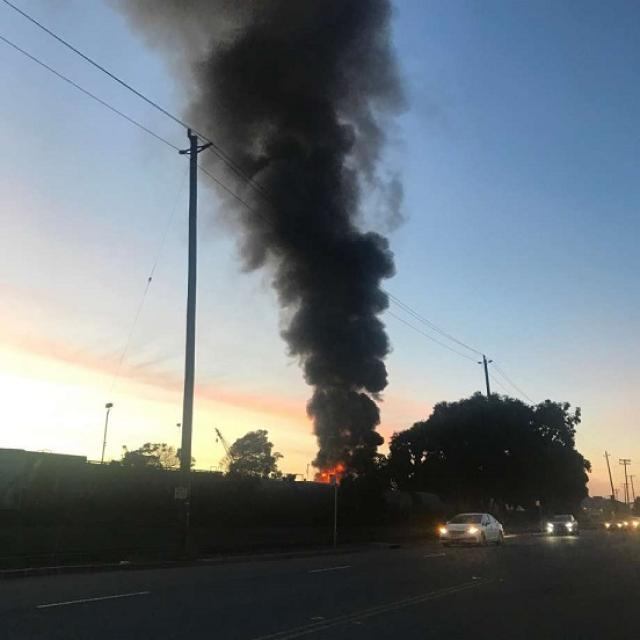Smoke: (220, 1, 362, 250), (296, 254, 375, 446)
